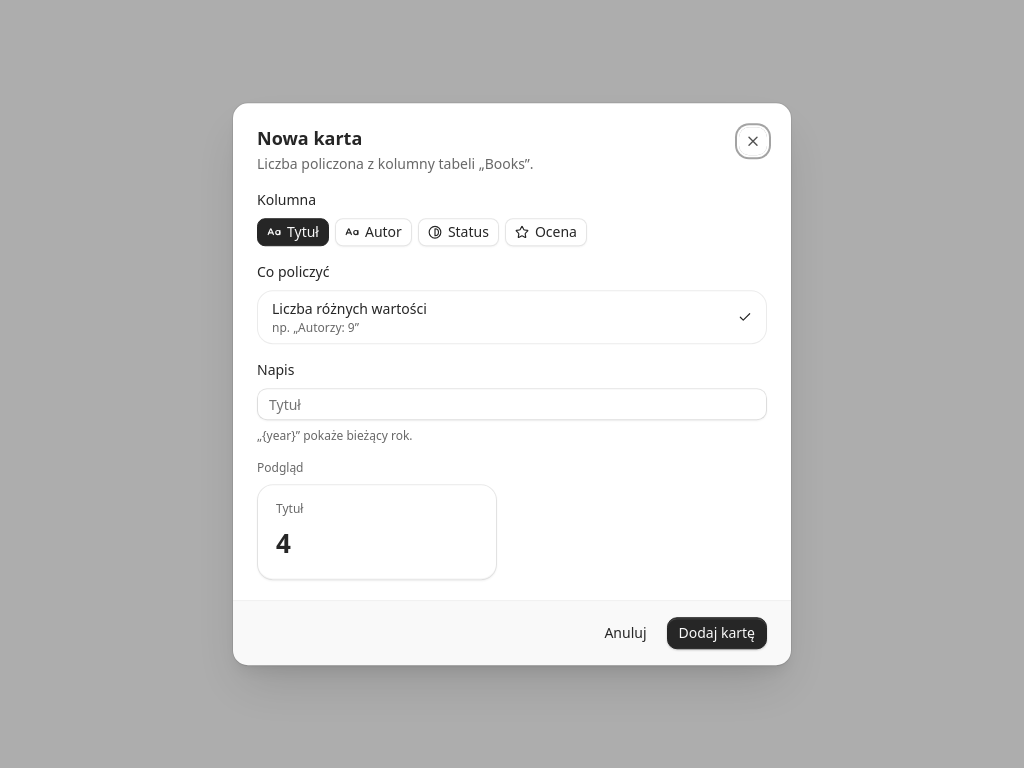
it: CardDialog › bez kolumny daty „Liczba z opcją w tym roku” jest wyłączone
Click the radio button labelled "Status" at (458,233), box top-left (418, 219), bottom-right (499, 247)
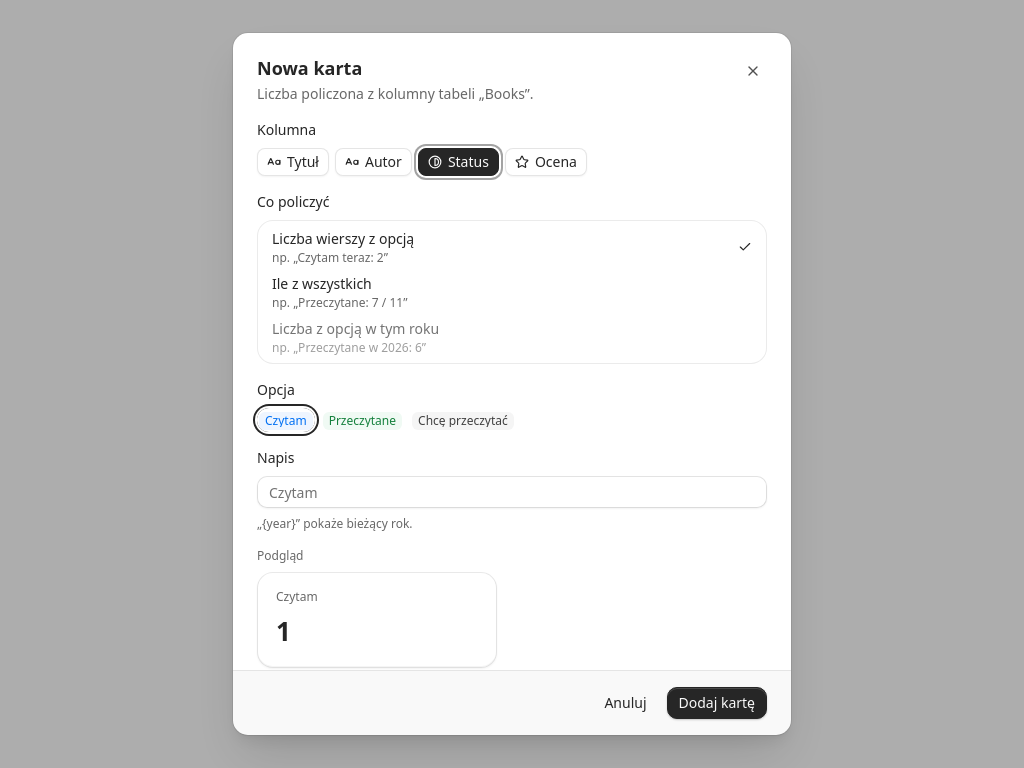
Now the radio button labelled "Liczba z opcją w tym roku np. „Przeczytane w 2026: 6”" is disabled, box top-left (262, 315), bottom-right (762, 359)
